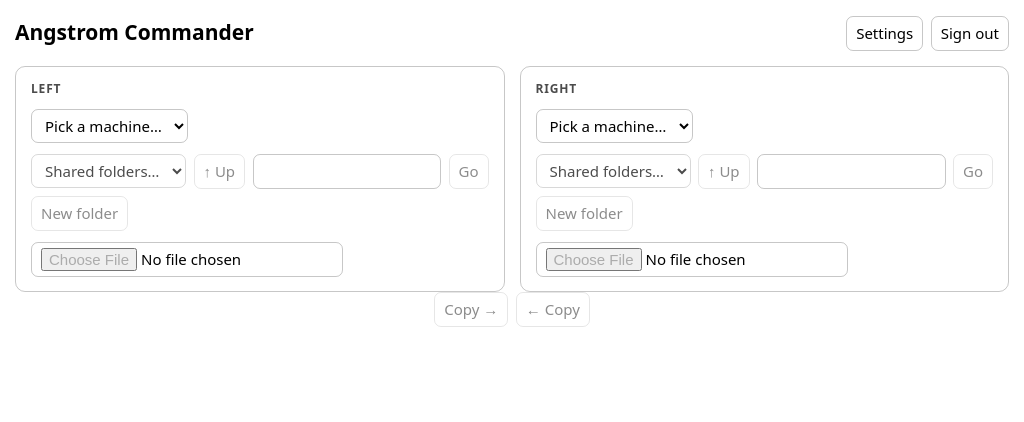
Test: clicking a directory navigates into it
The image size is (1024, 422).
Select "Home PC" in the dropdown named "Left: machine": (110, 126) [31,108,188,143]
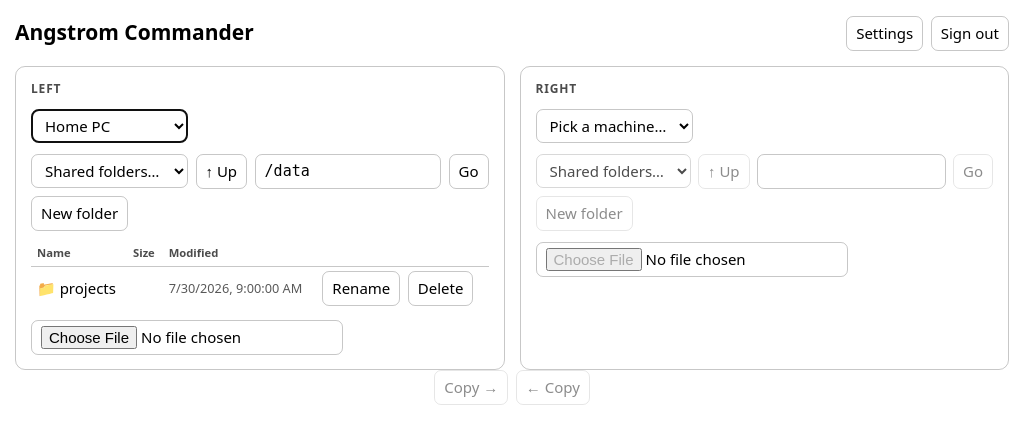
Click the text "📁 projects": (79, 288) [31,266,127,309]
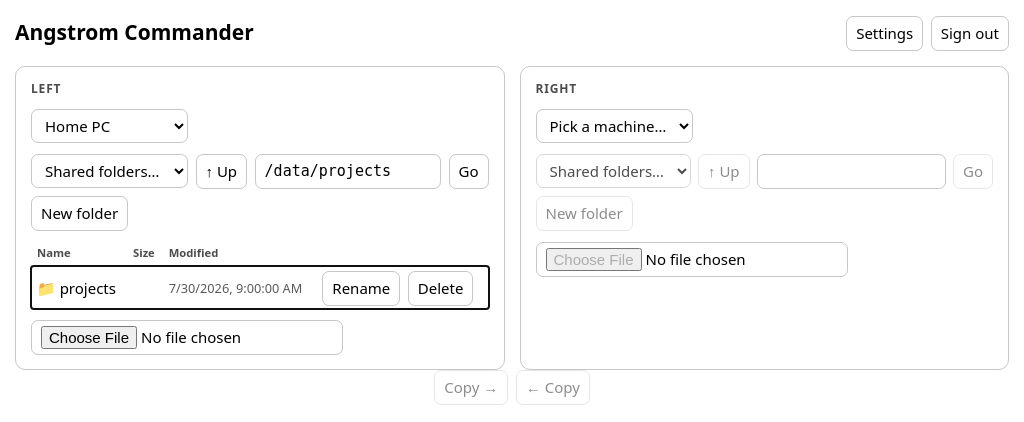
Expected: the field named "Left: path" holds "/data/projects", [255,154,441,188]
